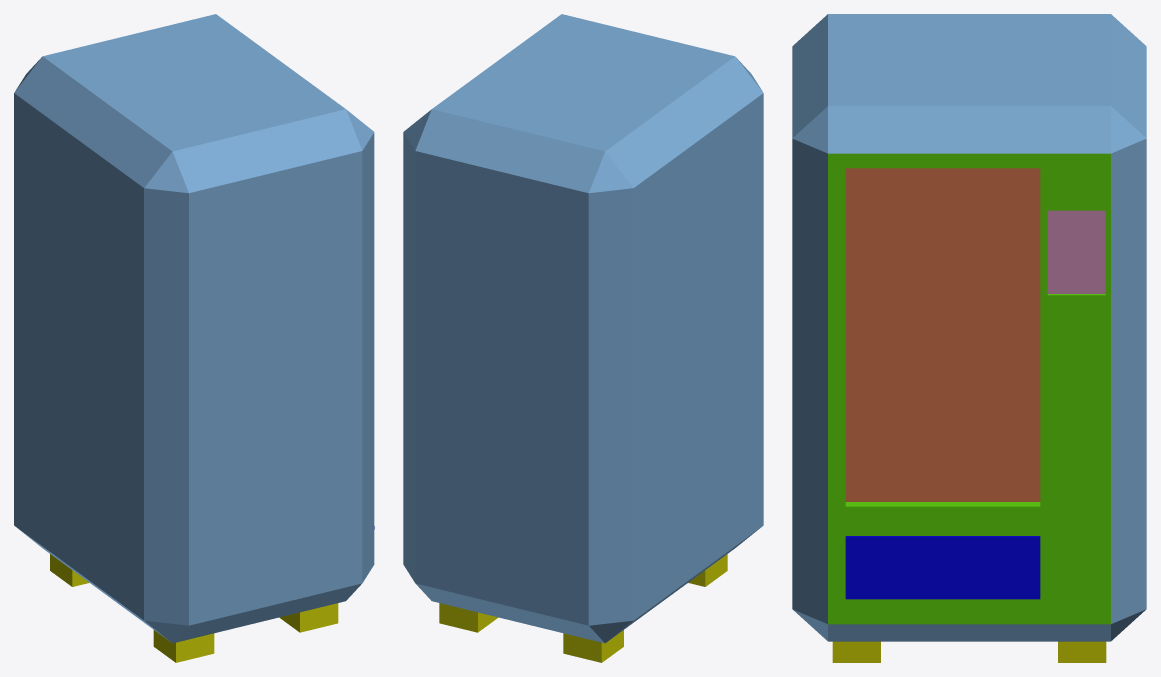
Rendered from VendingMachine2.fbx.
3 renders of one model, left to right at view 1: azimuth 30°, elevation 25°; view 2: azimuth 150°, elevation 25°; view 3: azimuth 270°, elevation 25°, orthographic. The views are drawn at different scales.
Visible parts, largest first — view 1: Cube; view 2: Cube; view 3: Cube.
Boxes of the visible parts, box(x1,y1,x2,y2) form: Cube: box(14, 14, 374, 662); Cube: box(403, 14, 763, 662); Cube: box(792, 14, 1146, 662).
Size of the model in its own units: 112 by 230 by 132.
